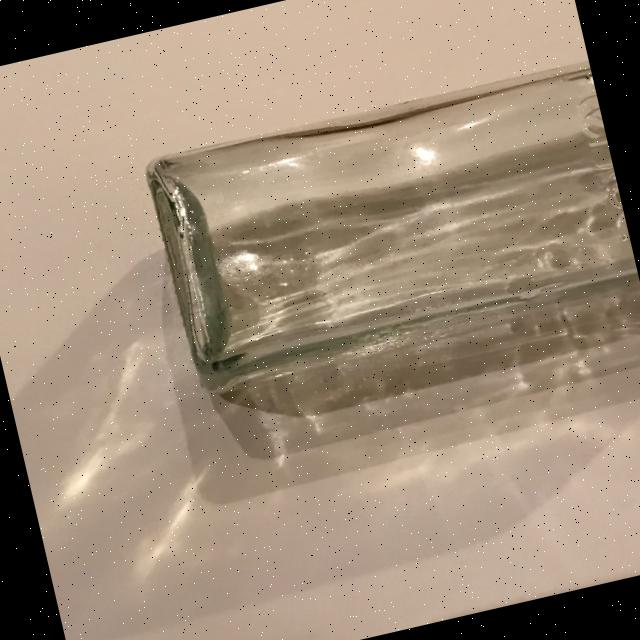glass: (142, 56, 638, 384)
